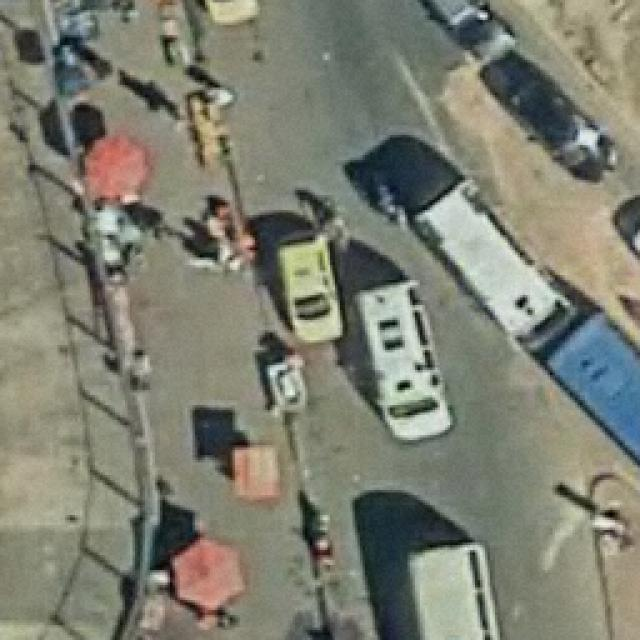vendedor_ambulante: (160, 527, 260, 613), (71, 128, 156, 204)
